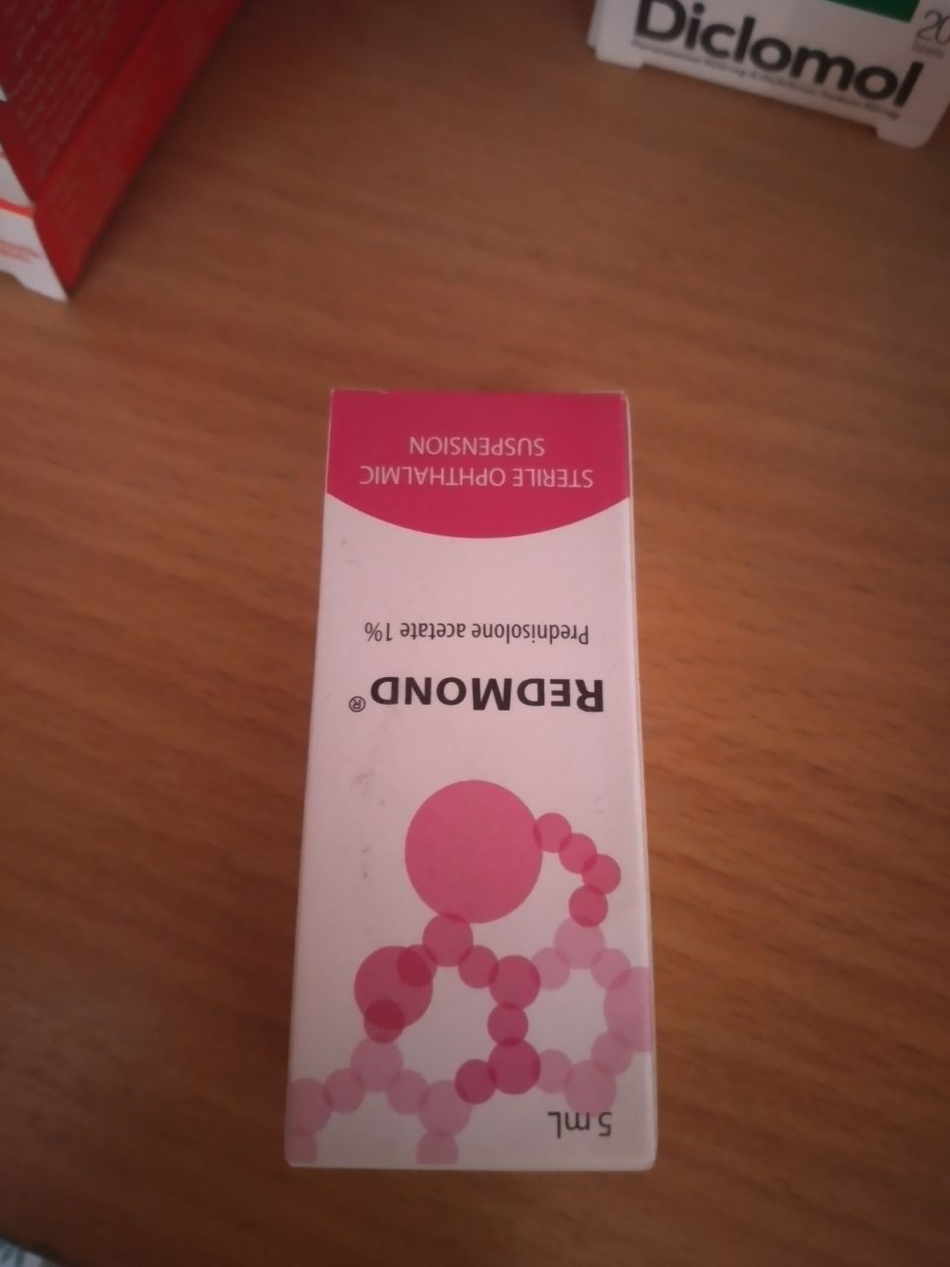Medicine: (267, 363, 683, 1214)
